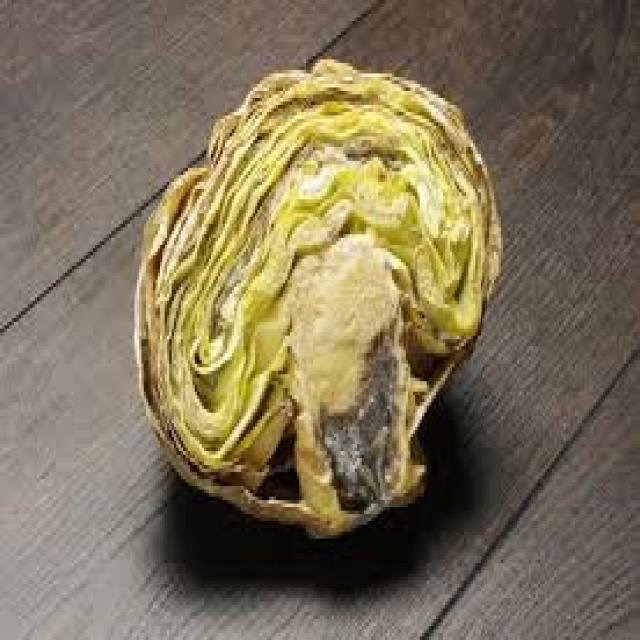food_waste: (134, 59, 501, 535)
